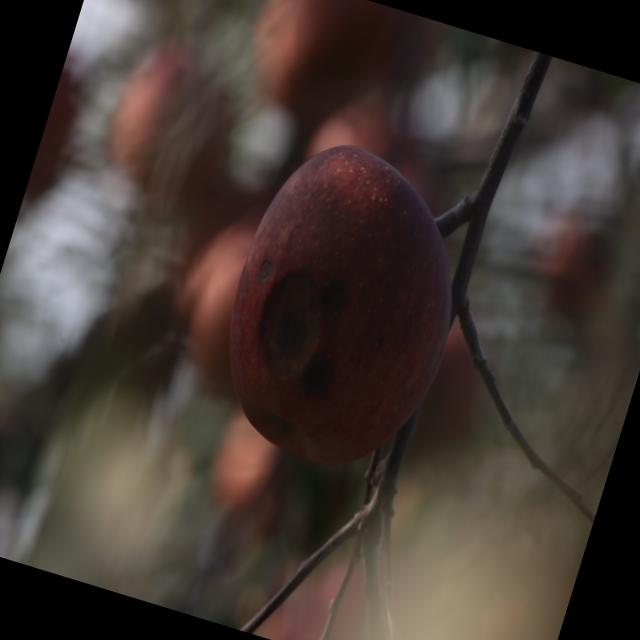rotten: (188, 115, 503, 504)
